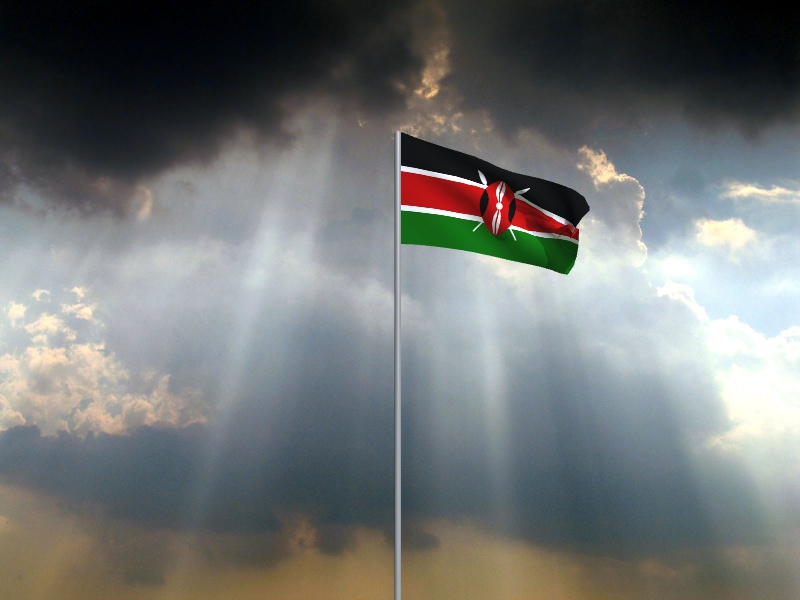ke: (401, 133, 592, 277)
